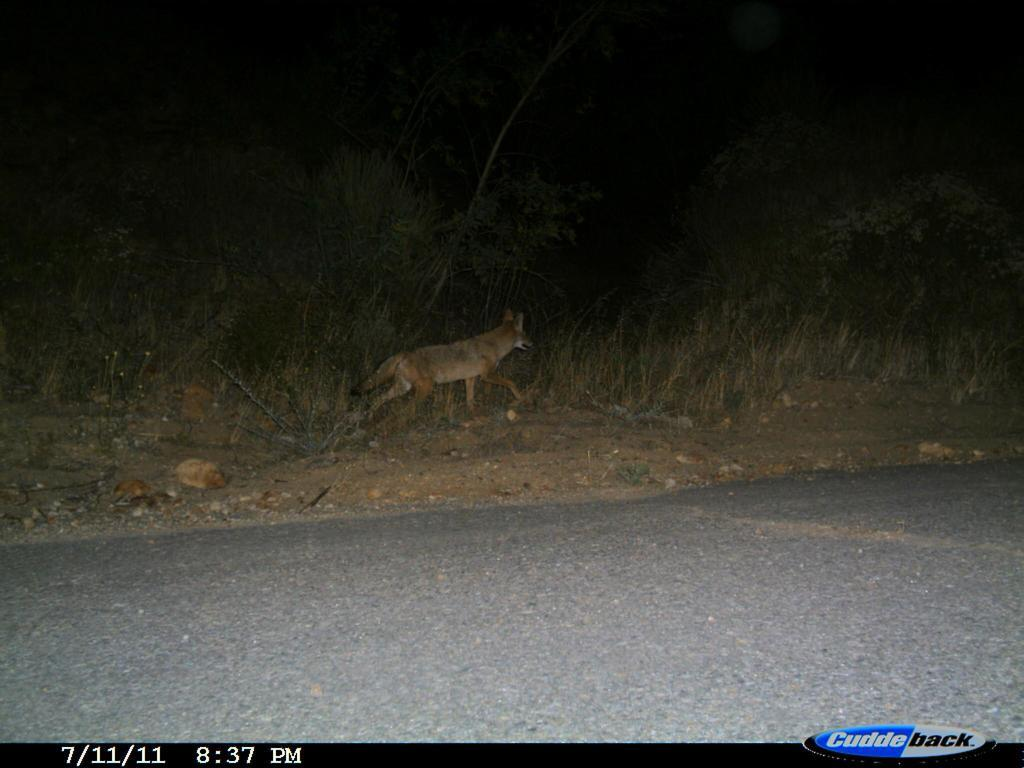coyote: (347, 305, 537, 428)
